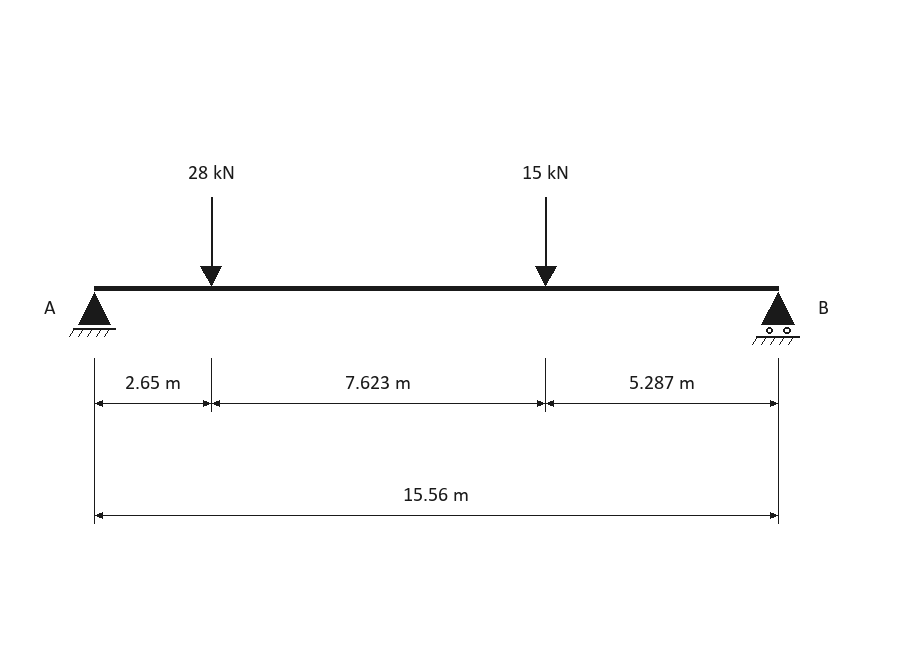pin_support: (69, 292, 116, 337)
point_load: (200, 197, 222, 286), (535, 197, 557, 286)
roller_support: (752, 292, 800, 345)
